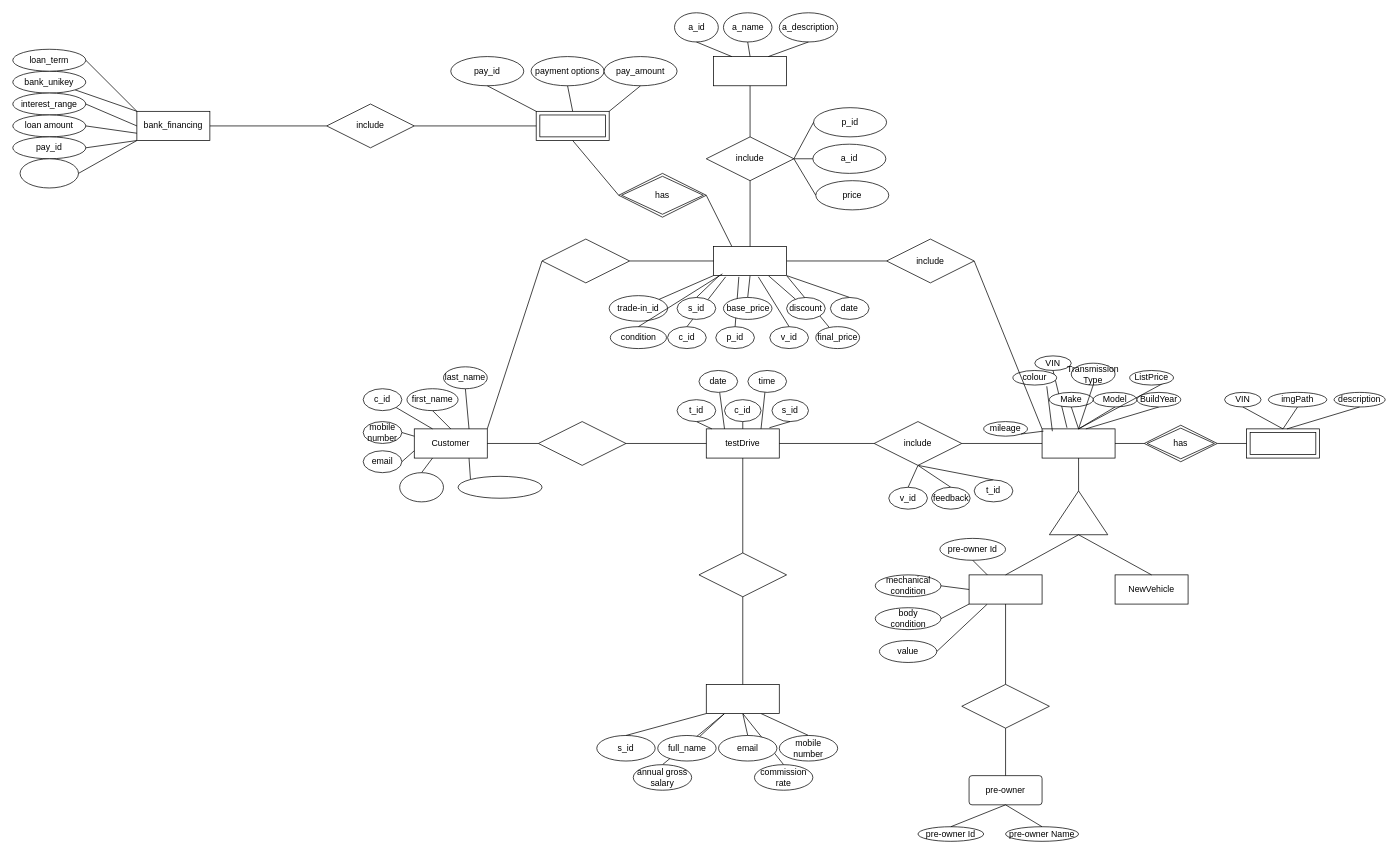
Image size: 1398x854. Some labels were removed from this diagram. The shapes that lost their labels are listed below. From the top down, each one's centre as x and y in pixels, then its label:
At point 750,71: "aftermarket".
At point 572,126: "payment".
At point 48,173: "proof document".
At point 585,260: "have".
At point 750,261: "purchasement".
At point 582,443: "attend".
At point 1078,443: "Vehicles".
At point 1282,443: "detailed-information".
At point 421,487: "residential address".
At point 499,487: "driver licence number".
At point 1078,512: "ISA".
At point 742,574: "schedule".
At point 1005,589: "pre-ownedVehicle".
At point 742,699: "Saleperson".
At point 1005,706: "sale".
